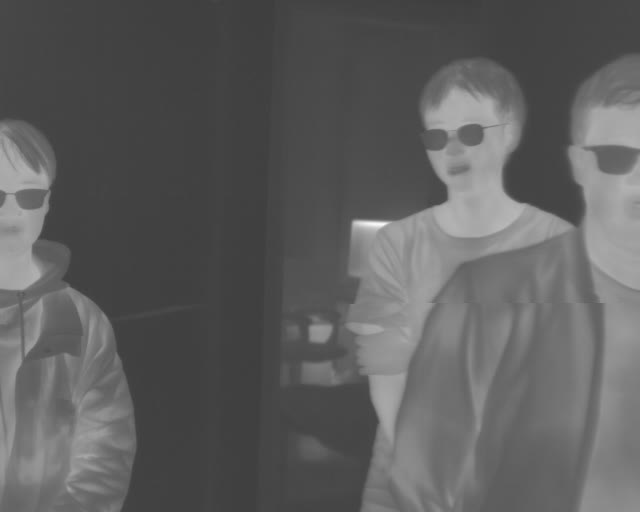face: (416, 53, 526, 188), (1, 118, 55, 250)
